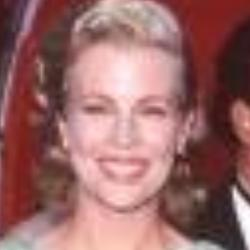face: (26, 1, 218, 231)
